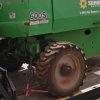Tractor: (6, 4, 100, 92)
